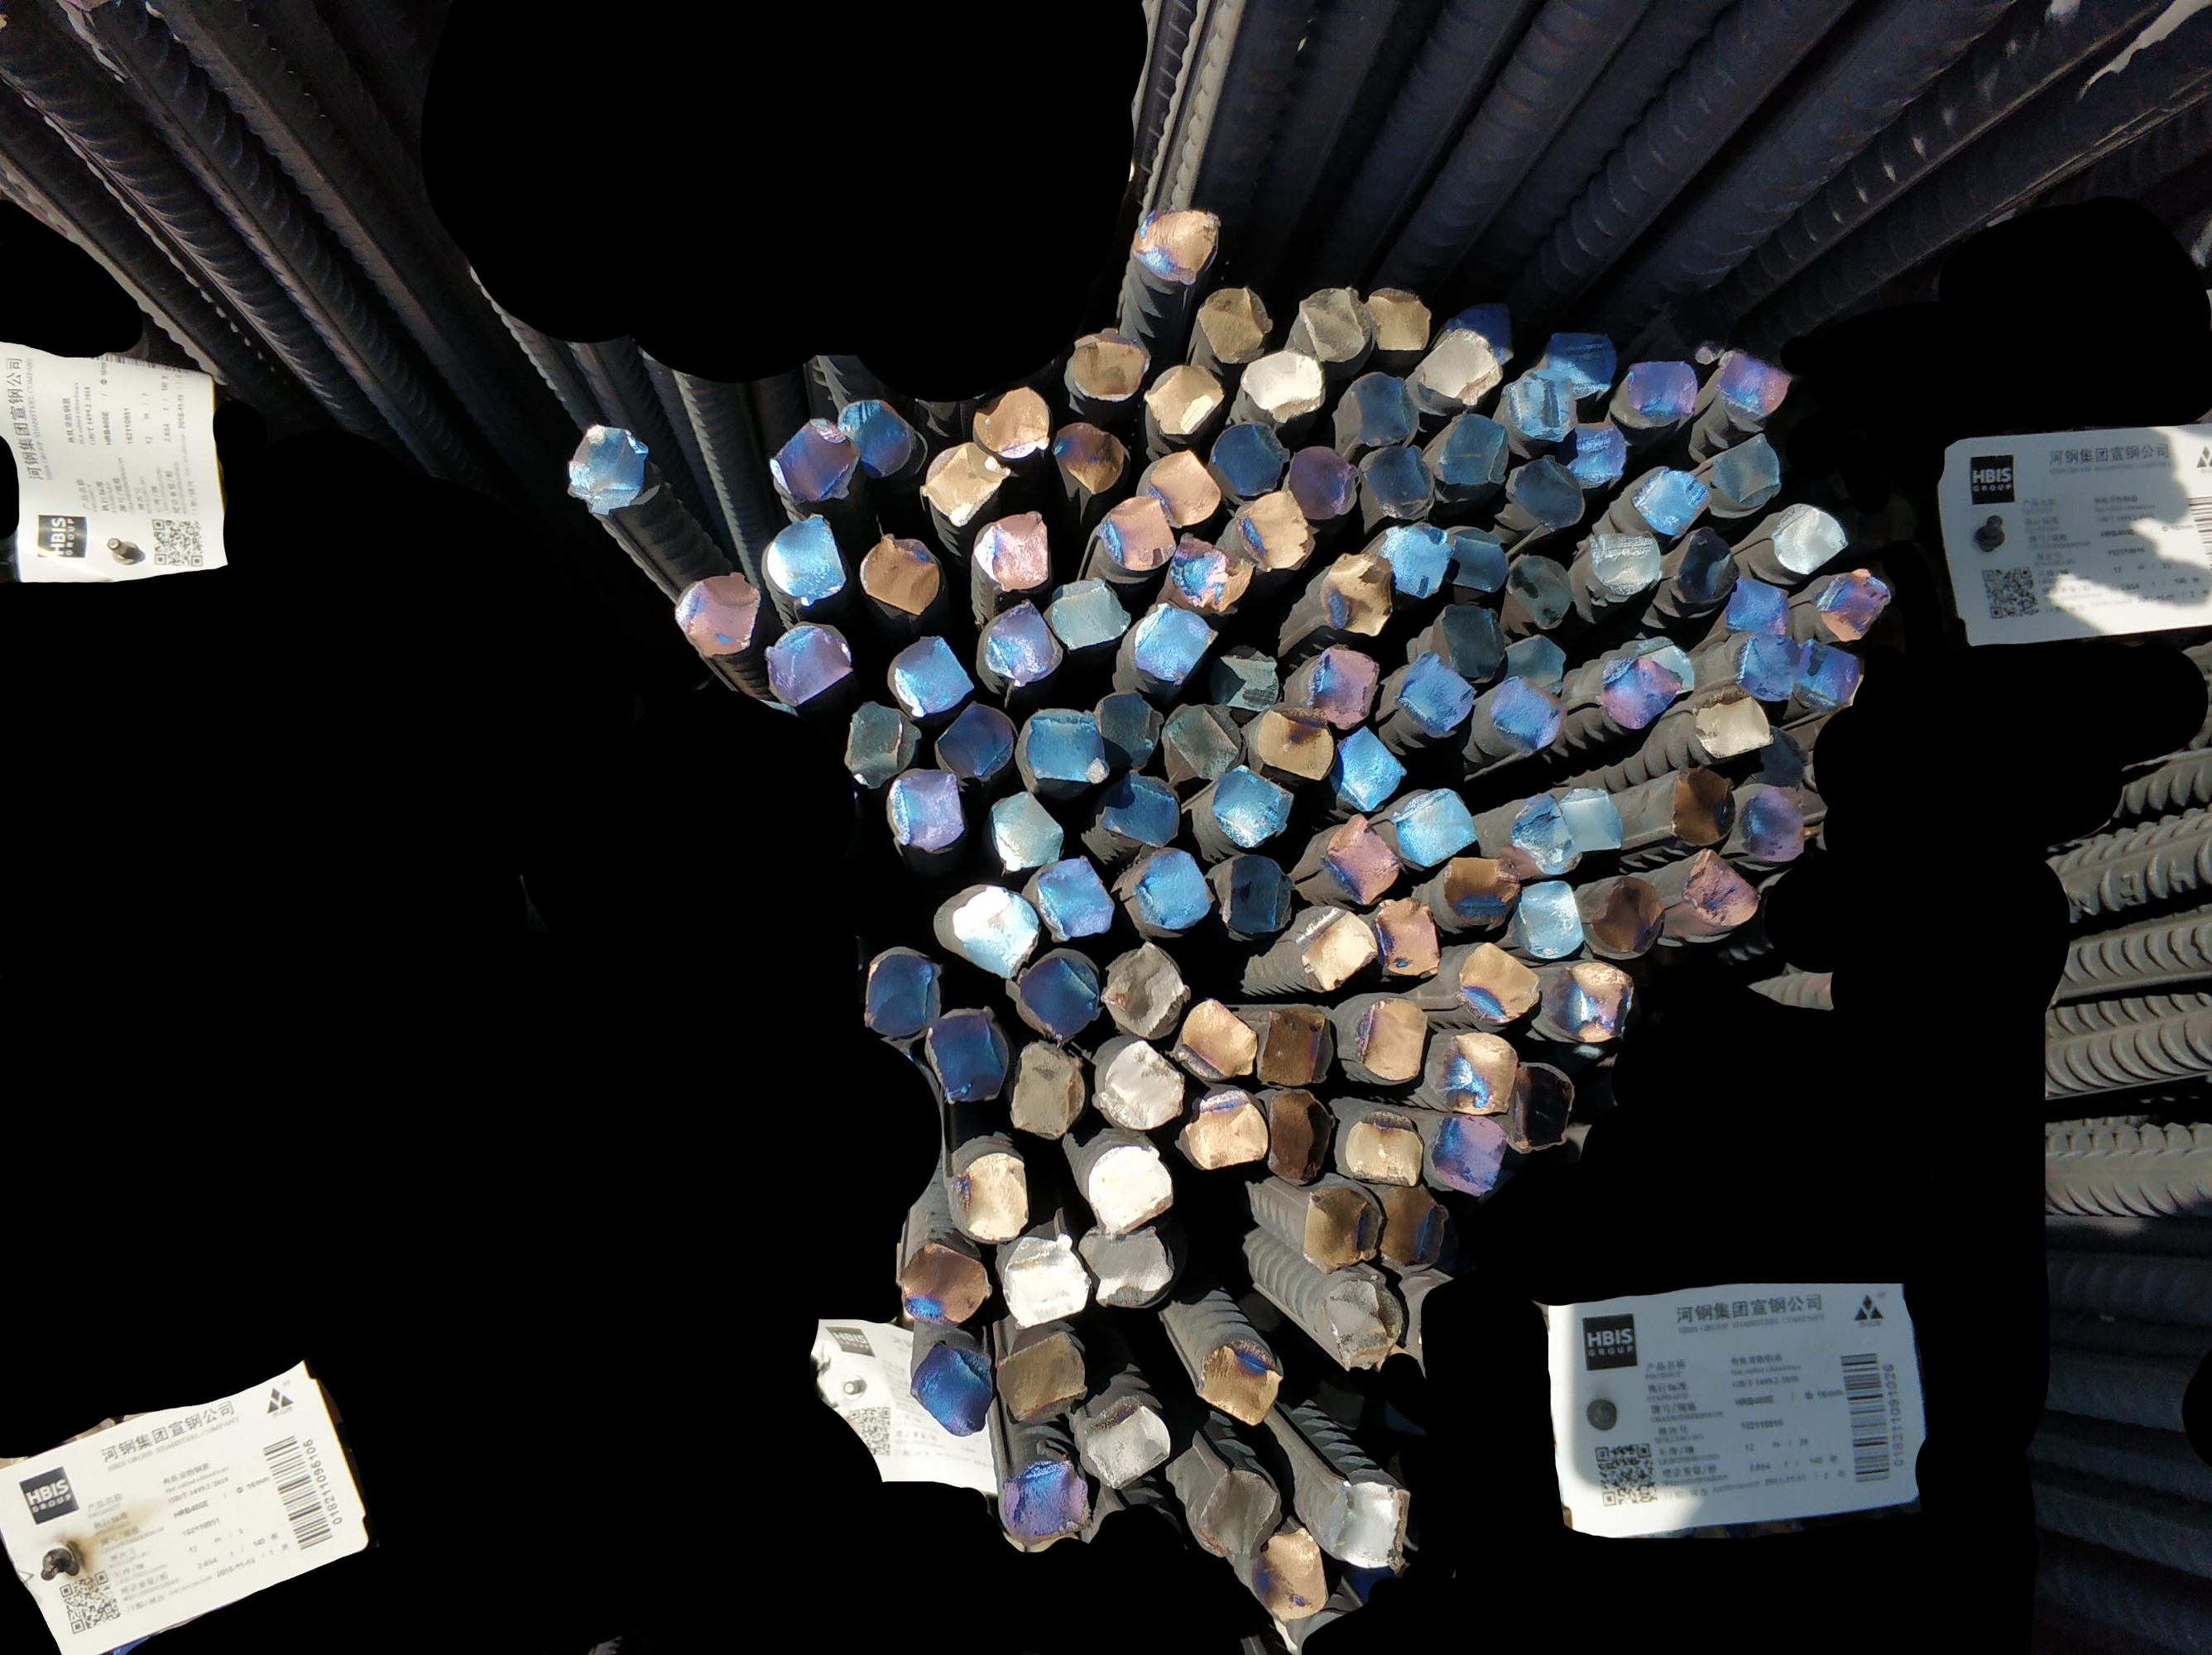rebar: (1190, 1457, 1289, 1565), (994, 1328, 1091, 1429), (1076, 1396, 1178, 1490), (944, 881, 1041, 979), (1102, 940, 1194, 1043), (997, 1229, 1091, 1328), (1321, 1273, 1411, 1373), (1319, 1472, 1406, 1577), (766, 412, 862, 506), (909, 1339, 994, 1443), (1096, 1038, 1189, 1133), (893, 1241, 992, 1330), (1079, 1222, 1178, 1311), (1194, 1333, 1286, 1427), (1086, 1142, 1176, 1238), (565, 422, 653, 520), (758, 509, 846, 607), (921, 440, 1015, 530), (996, 1453, 1089, 1544), (944, 1151, 1030, 1248), (923, 1005, 1006, 1106), (672, 568, 763, 661), (977, 598, 1067, 690), (1244, 1525, 1331, 1620), (860, 944, 944, 1043), (1004, 1036, 1084, 1139), (763, 617, 853, 708), (1182, 1081, 1272, 1172), (1169, 994, 1258, 1087), (1333, 367, 1423, 455), (883, 631, 975, 718), (1015, 951, 1102, 1043), (1293, 901, 1380, 993), (1129, 598, 1218, 687), (1409, 323, 1501, 409), (1303, 1180, 1385, 1276), (881, 765, 968, 854), (1135, 202, 1223, 289), (1394, 782, 1480, 871), (1328, 723, 1411, 815), (839, 697, 921, 791), (1263, 1087, 1338, 1189), (1138, 449, 1227, 534), (1322, 812, 1401, 907), (933, 699, 1018, 786), (1030, 854, 1116, 940), (858, 530, 940, 621), (1597, 648, 1689, 728), (1209, 763, 1295, 848), (1096, 768, 1183, 852), (1430, 1113, 1512, 1201), (1503, 791, 1585, 880), (1682, 847, 1764, 935), (1625, 462, 1713, 544), (1456, 939, 1540, 1024), (970, 509, 1056, 591), (1046, 572, 1133, 654), (1020, 706, 1109, 786), (1305, 640, 1383, 730), (1093, 490, 1175, 575), (1162, 701, 1248, 782), (1437, 1031, 1519, 1116), (1715, 342, 1797, 428), (983, 788, 1063, 874), (1133, 845, 1213, 932), (1319, 549, 1399, 636), (1380, 1179, 1451, 1276), (836, 393, 917, 476), (1173, 530, 1255, 614), (1209, 417, 1291, 501), (1194, 280, 1274, 365), (1585, 873, 1665, 958), (1374, 518, 1454, 603), (1063, 327, 1150, 405), (1355, 994, 1430, 1085), (1253, 701, 1334, 782), (1552, 961, 1633, 1043), (1399, 652, 1479, 735), (1503, 452, 1586, 532), (1223, 850, 1298, 939), (1500, 1060, 1574, 1149), (1734, 777, 1809, 866), (1666, 763, 1739, 854), (1145, 358, 1227, 438), (1258, 1005, 1338, 1087), (1343, 1106, 1425, 1186), (1583, 528, 1668, 605), (1241, 348, 1328, 422), (1234, 489, 1310, 572), (1362, 438, 1439, 522), (1510, 874, 1585, 960), (1295, 283, 1371, 365), (1428, 412, 1510, 489), (1498, 365, 1580, 442), (1706, 429, 1783, 511), (1373, 894, 1440, 982), (1050, 419, 1129, 494), (1435, 598, 1510, 678), (1668, 525, 1741, 607), (1727, 626, 1802, 704), (1769, 502, 1849, 575), (1818, 567, 1894, 641), (1507, 551, 1576, 633), (1691, 694, 1776, 760), (975, 384, 1051, 457), (1288, 445, 1361, 522), (1362, 282, 1435, 358), (1494, 675, 1564, 754), (1557, 419, 1632, 492), (1621, 358, 1698, 429), (1091, 690, 1161, 768), (1442, 854, 1520, 923), (1793, 636, 1864, 711), (1540, 329, 1618, 396), (1557, 781, 1626, 855), (1724, 574, 1800, 641), (1447, 299, 1520, 369), (1743, 716, 1812, 789), (1442, 522, 1510, 596), (1630, 626, 1699, 695), (1220, 647, 1284, 715), (1503, 629, 1567, 695)
